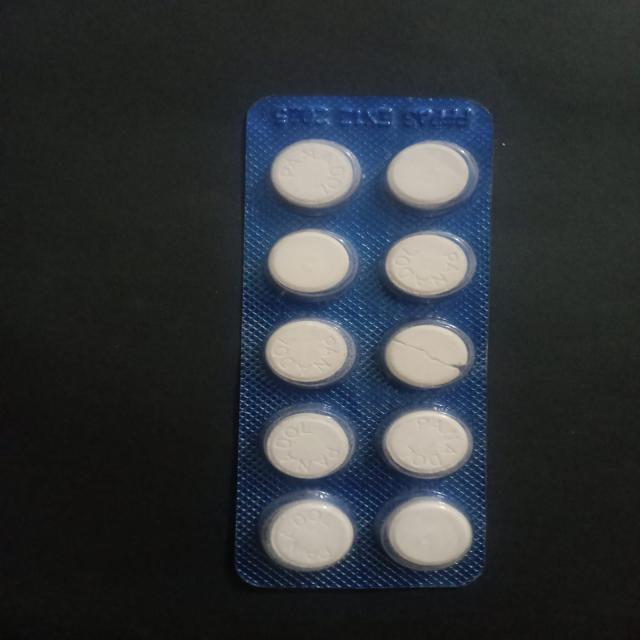defect: (374, 314, 478, 392)
